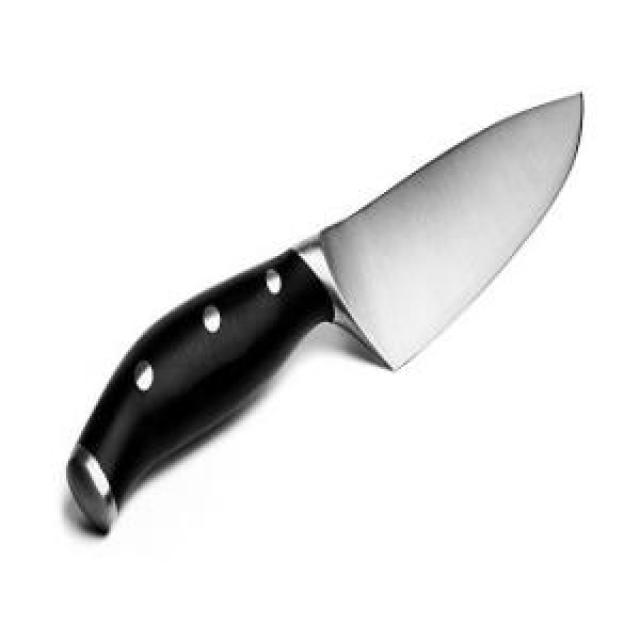knife: (64, 88, 586, 554)
